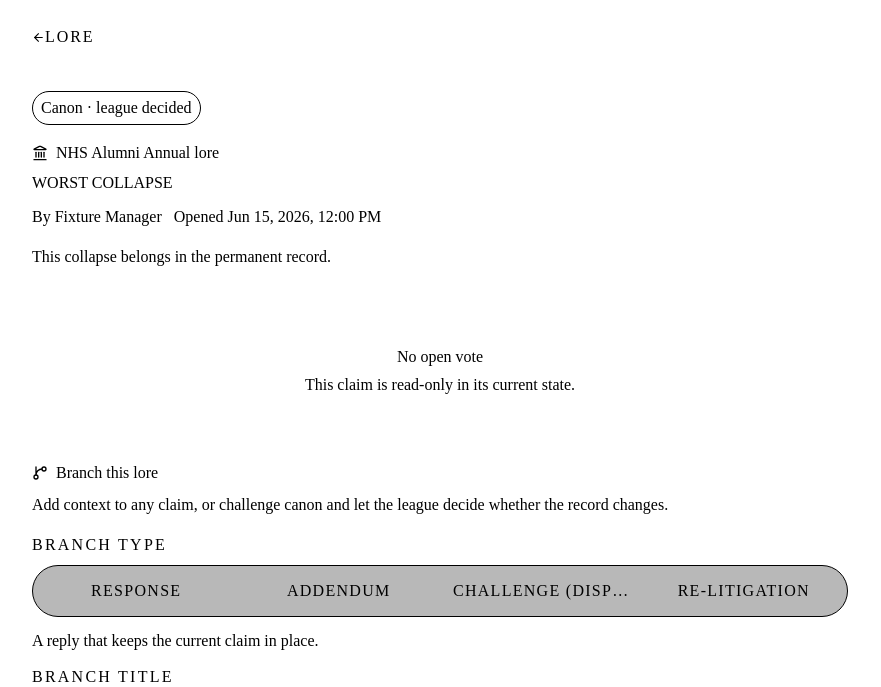
Scenario: LeagueLoreClaimView › opens a challenge branch from canon and marks the parent disputed
The width and height of the screenshot is (881, 687).
Click the radio button labelled "Challenge (dispute)" at x=553, y=590, box [453,582,654,599]
(page scrolled)
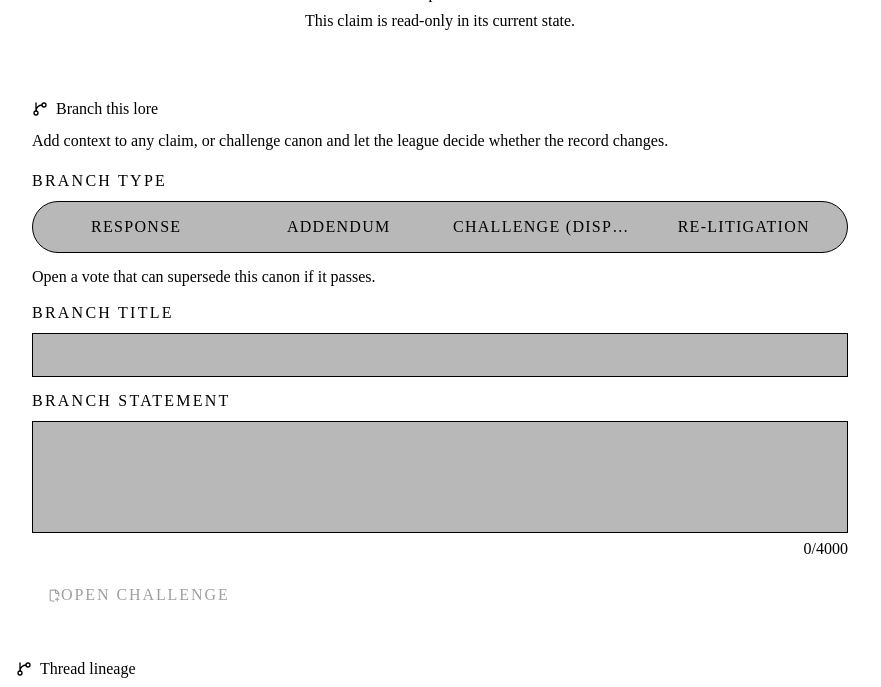
Type "The collapse record needs context" into the field labelled "Branch title" at x=440, y=355, box [32,333,848,377]
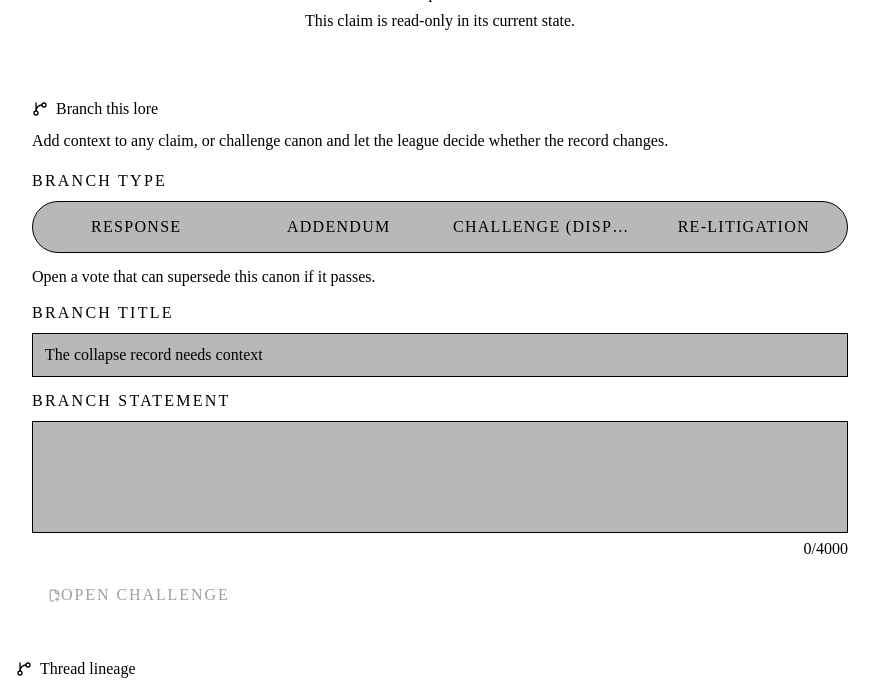
Type "This was a matchup trap, not a historical choke." into the text box labelled "Branch statement" at x=440, y=477, box [32,421,848,533]
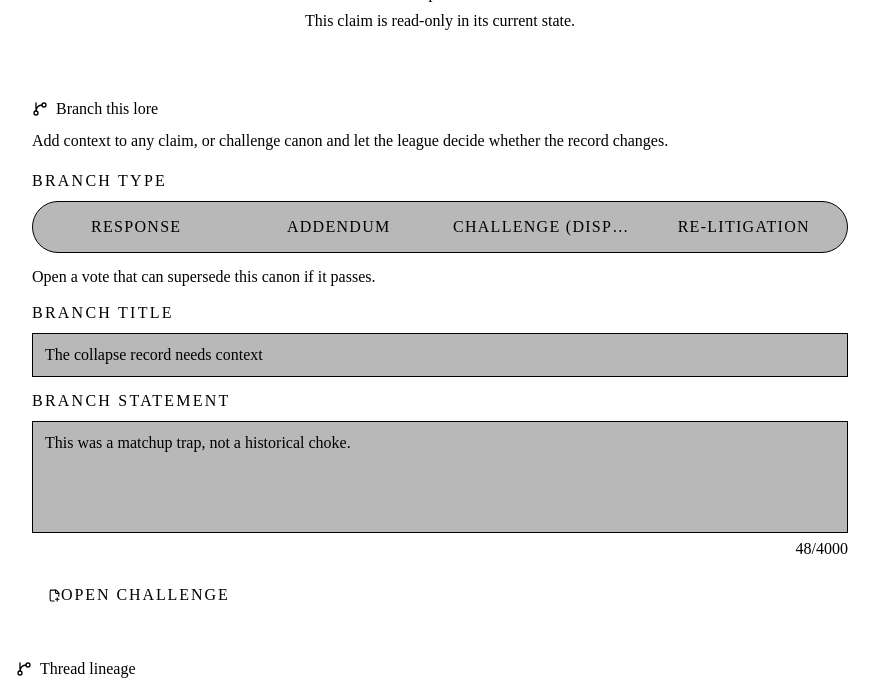
Click the button "Open challenge" at x=139, y=595, box [32,573,246,617]
(page scrolled)
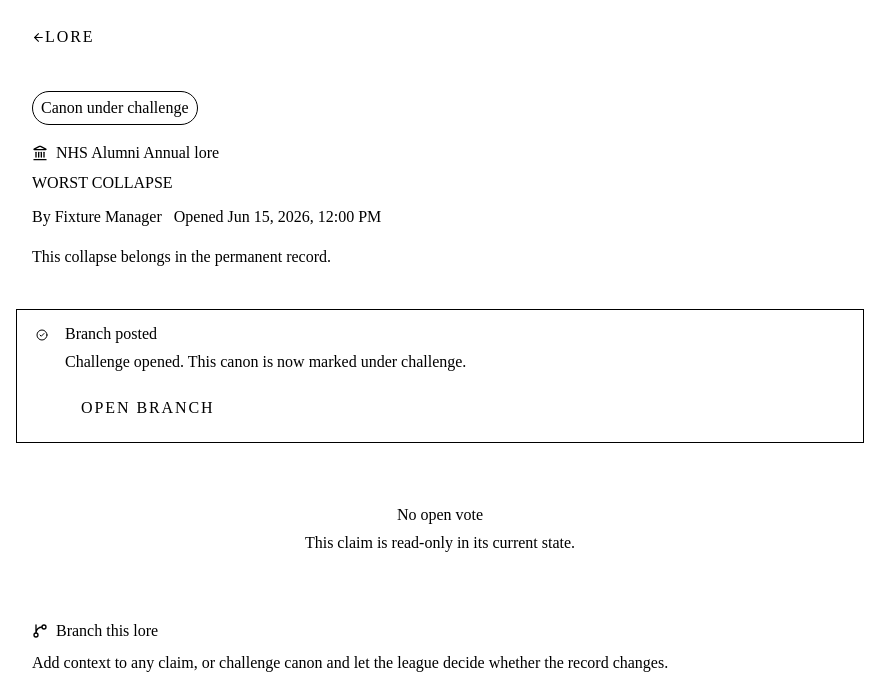
Result: the text "Challenge opened. This canon is now marked under challenge." is shown at [65,353,466,370]
Result: the text "Canon under challenge" is shown at [32,91,198,125]
